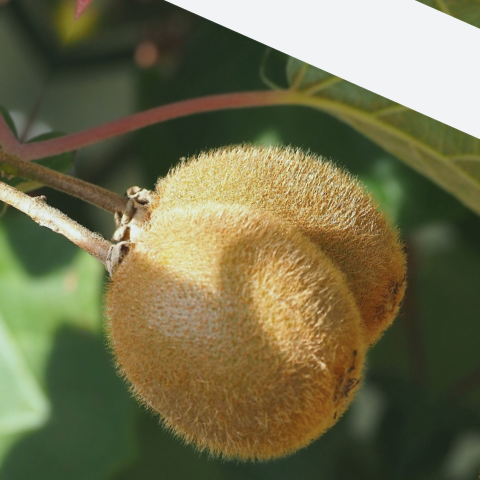kiwi: (43, 158, 429, 480)
